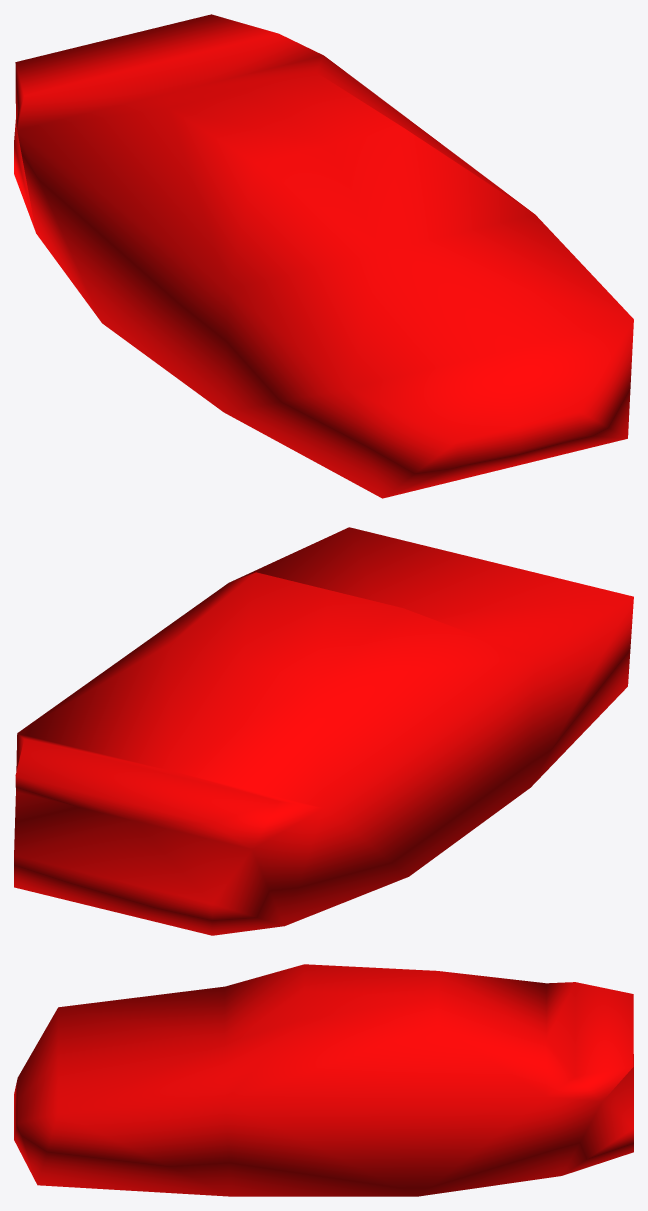
File: car_0011_collider.fbx
3 views of the same model, one above another, from view 1: azimuth 30°, elevation 25°; view 2: azimuth 150°, elevation 25°; view 3: azimuth 270°, elevation 25° (orthographic). The views are drawn at different scales.
Visible parts, largest first — view 1: Mesh; view 2: Mesh; view 3: Mesh.
Boxes of the visible parts, x1=… form: Mesh: x1=14, y1=14, x2=633, y2=498; Mesh: x1=14, y1=527, x2=633, y2=935; Mesh: x1=14, y1=964, x2=633, y2=1196.
Size of the model in its own units: 192 by 116 by 442.
